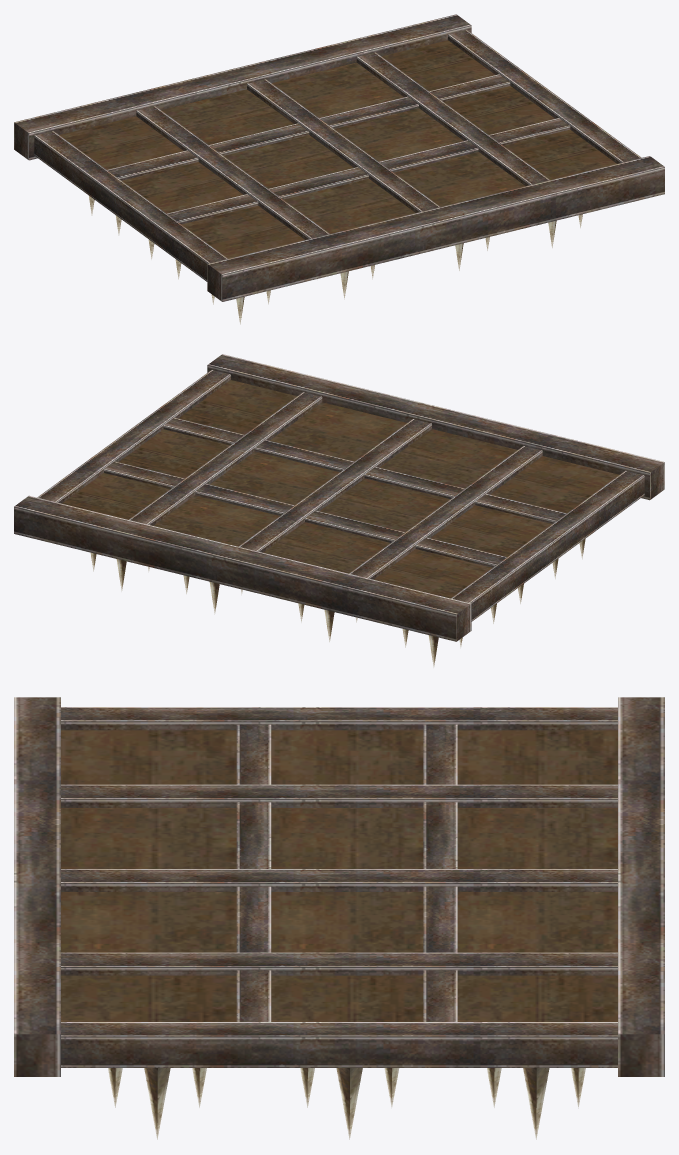
Rendered from environment_common_xingju01_b.FBX.
3 renders of one model, top to bottom at view 1: azimuth 30°, elevation 25°; view 2: azimuth 150°, elevation 25°; view 3: azimuth 270°, elevation 25°, orthographic. The views are drawn at different scales.
Parts seen in each view (by area): view 1: environment_common_xingju01_b; view 2: environment_common_xingju01_b; view 3: environment_common_xingju01_b.
Part boxes in pixels (left/top/right/bottom): environment_common_xingju01_b: left=14, top=14, right=664, bottom=324; environment_common_xingju01_b: left=14, top=354, right=664, bottom=667; environment_common_xingju01_b: left=14, top=697, right=664, bottom=1139.
Size of the model in its own units: 263 by 49.24 by 214.
